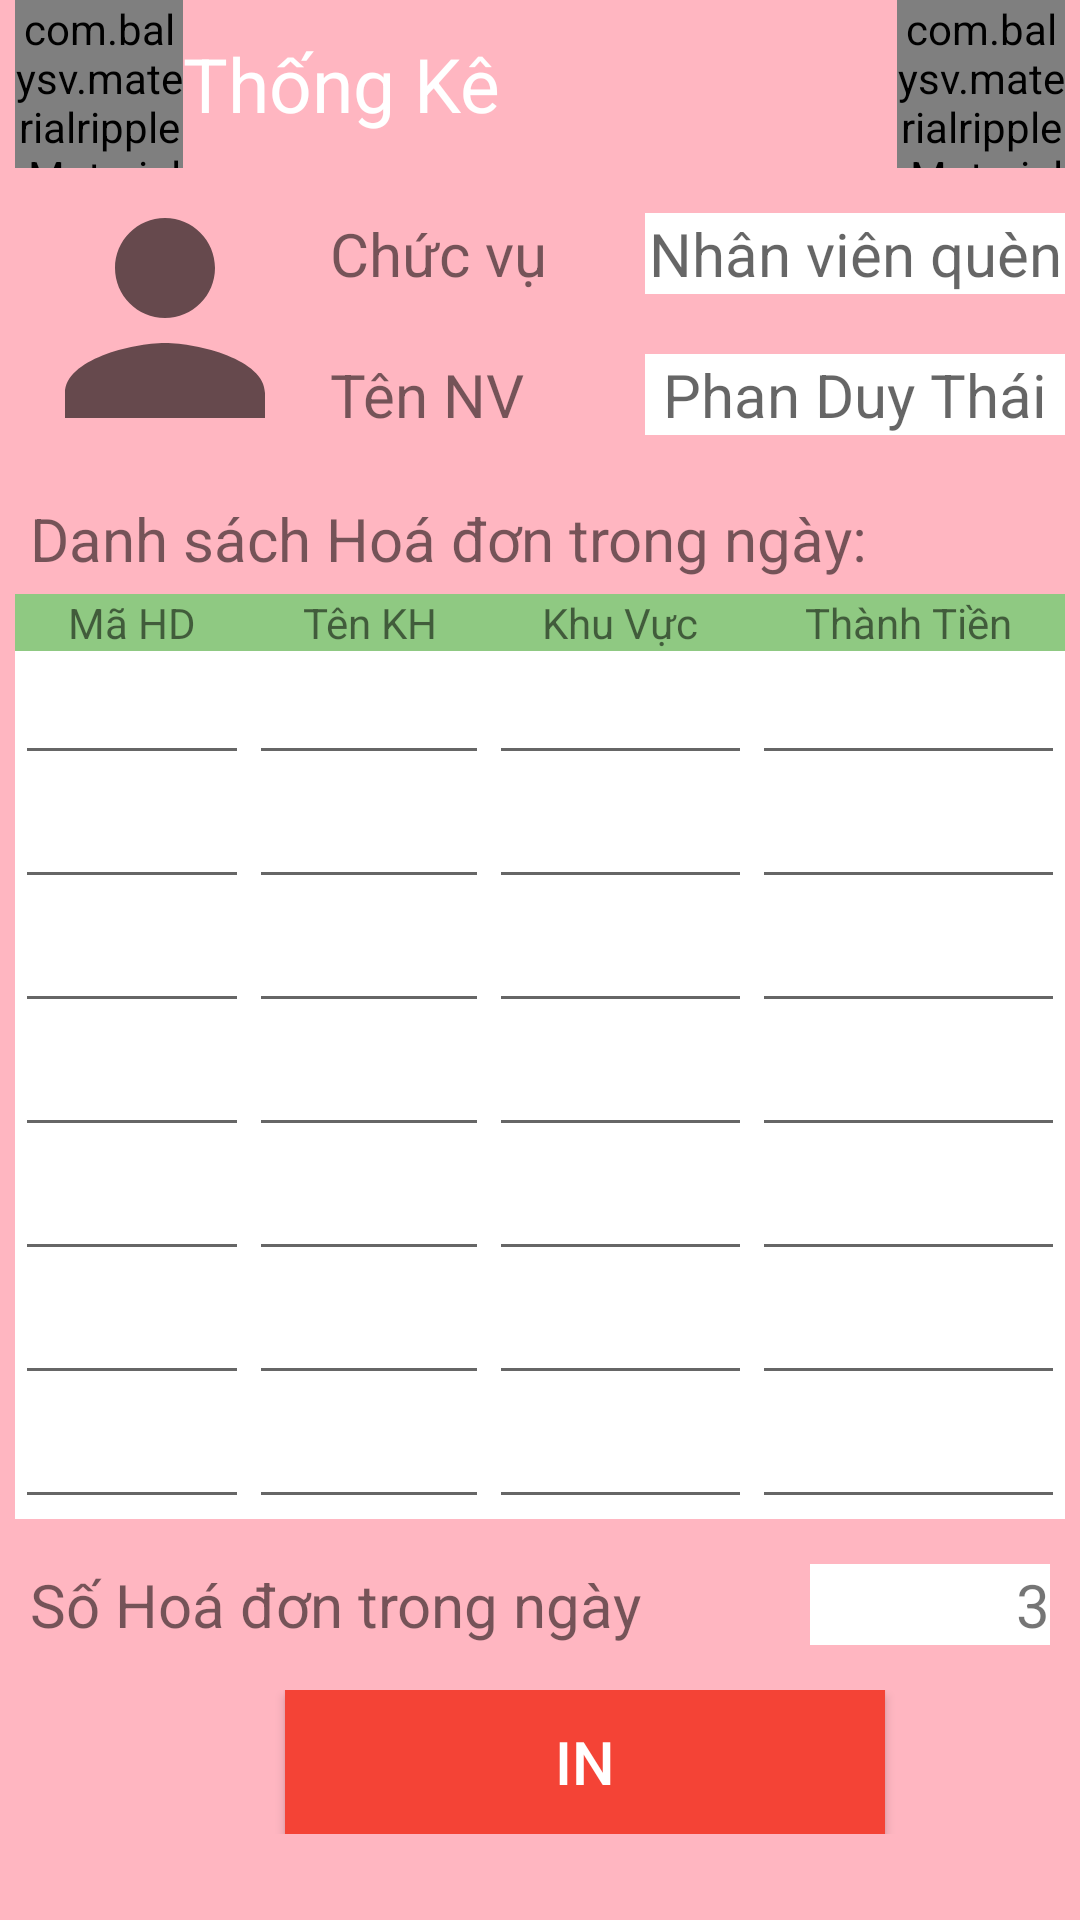

Icons on this 1080 x 1920 Android screen, each with its box as box=[x1, y1, x2, y2]:
person: box=[65, 218, 265, 418]
